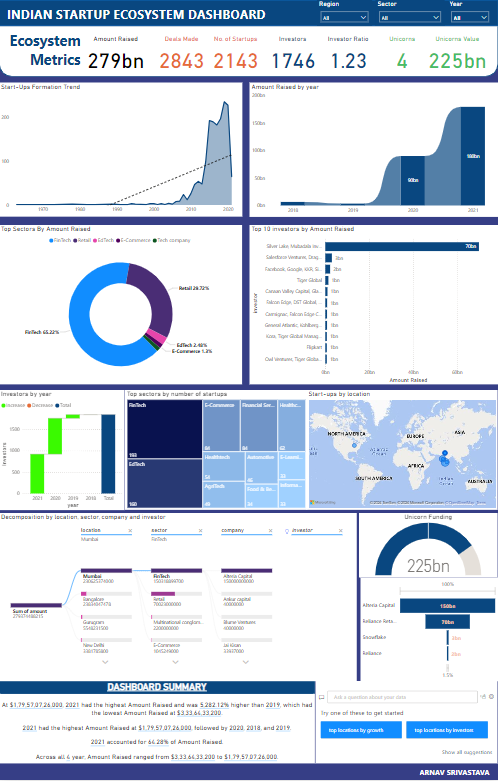

The page's visual inventory and layout, read from the dashboard file:
{"tool":"powerbi","page":{"name":"Page 2","canvas":[1280,940],"ordinal":1},"visuals":[{"type":"shape","box":[0,62.9,1280,127.1],"z":0,"group":"g2"},{"type":"group","id":"g1","title":"Group 1","box":[0,192.5,1280,747.5],"z":0},{"type":"group","id":"g2","title":"Group 2","box":[0,0,1280,190],"z":1000},{"type":"shape","box":[0,0,1280,64.1],"z":1000,"group":"g2"},{"type":"card","title":"Amount Raised","fields":{"Values":["Cleaned_Data.Amount Raised"]},"box":[217.5,84.7,160,96.8],"z":2000,"group":"g2"},{"type":"card","title":"Deals Made","fields":{"Values":["Cleaned_Data.Deals Made"]},"box":[387.7,84.7,160,96.8],"z":3000,"group":"g2"},{"type":"card","title":"Investors","fields":{"Values":["Cleaned_Data.Investors"]},"box":[673.5,84.7,160,96.8],"z":4000,"group":"g2"},{"type":"textbox","box":[15,6.1,696.2,58.1],"z":5000,"group":"g2"},{"type":"slicer","title":"Year","fields":{"Values":["Cleaned_Data.year"]},"box":[1148.8,0,116.2,62.9],"z":6000,"group":"g2"},{"type":"card","title":"Unicorns","fields":{"Values":["Sum(Cleaned_Data.Unicorn)"]},"box":[952.5,84.7,160,96.8],"z":7000,"group":"g2"},{"type":"card","title":"Investor Ratio","fields":{"Values":["Cleaned_Data.Investor Ratio"]},"box":[813.8,84.7,160,96.8],"z":8000,"group":"g2"},{"type":"card","title":"No. of Startups","fields":{"Values":["Cleaned_Data.Start-ups"]},"box":[527.9,84.7,160,96.8],"z":9000,"group":"g2"},{"type":"slicer","title":"Sector","fields":{"Values":["Cleaned_Data.sector"]},"box":[966.2,1.2,177.5,62.9],"z":10000,"group":"g2"},{"type":"decompositionTreeVisual","title":"Decomposition by location, sector, company and investor","fields":{"Analyze":["Sum(Cleaned_Data.amount)"],"ExplainBy":["Cleaned_Data.location","Cleaned_Data.sector","Cleaned_Data.company","Cleaned_Data.investor"]},"box":[0,508.7,917.5,431.2],"z":10000,"group":"g1"},{"type":"textbox","box":[6.2,71.4,206.2,111.3],"z":11000,"group":"g2"},{"type":"funnel","fields":{"Category":["Cleaned_Data.company"],"Y":["Cleaned_Data.Unicorn value"]},"box":[925,673.7,355,266.2],"z":11000,"group":"g1"},{"type":"slicer","title":"Region","fields":{"Values":["Cleaned_Data.location"]},"box":[816.2,0,141.2,64.1],"z":12000,"group":"g2"},{"type":"map","fields":{"Size":["Cleaned_Data.Start-ups"],"Category":["Cleaned_Data.location"]},"box":[790,192.5,490,307.5],"z":12000,"group":"g1"},{"type":"card","title":"Unicorns Value","fields":{"Values":["Cleaned_Data.Unicorn value"]},"box":[1088.8,84.7,173.8,96.8],"z":13000,"group":"g2"},{"type":"gauge","title":"Unicorn Funding","fields":{"Y":["Cleaned_Data.Unicorn value"],"MaxValue":["Cleaned_Data.Amount Raised"],"TargetValue":["Cleaned_Data.50%"]},"box":[1026.2,508.7,253.8,165],"z":13000,"group":"g1"},{"type":"treemap","title":"Top sectors by number of startups","fields":{"Group":["Cleaned_Data.sector"],"Values":["Cleaned_Data.Start-ups"]},"box":[322.5,192.5,467.5,307.5],"z":14000,"group":"g1"},{"type":"waterfallChart","fields":{"Category":["Cleaned_Data.year"],"Y":["Cleaned_Data.Investors"]},"box":[0,192.5,322,308],"z":15000,"group":"g1"}]}

Visuals, with their boxes on the page's 1280x940 design canvas (x1, y1, x2, y2). These are canvas units, not pixel positions in the 498x781 screenshot, which may show the page scaled, cropped or inside an application window:
shape: x1=0 y1=63 x2=1280 y2=190
"Group 1" group: x1=0 y1=192 x2=1280 y2=940
"Group 2" group: x1=0 y1=0 x2=1280 y2=190
shape: x1=0 y1=0 x2=1280 y2=64
"Amount Raised" card: x1=218 y1=85 x2=378 y2=182
"Deals Made" card: x1=388 y1=85 x2=548 y2=182
"Investors" card: x1=674 y1=85 x2=834 y2=182
textbox: x1=15 y1=6 x2=711 y2=64
"Year" slicer: x1=1149 y1=0 x2=1265 y2=63
"Unicorns" card: x1=952 y1=85 x2=1112 y2=182
"Investor Ratio" card: x1=814 y1=85 x2=974 y2=182
"No. of Startups" card: x1=528 y1=85 x2=688 y2=182
"Sector" slicer: x1=966 y1=1 x2=1144 y2=64
"Decomposition by location, sector, company and investor" decompositionTreeVisual: x1=0 y1=509 x2=918 y2=940
textbox: x1=6 y1=71 x2=212 y2=183
funnel - Cleaned_Data.company x Cleaned_Data.Unicorn value: x1=925 y1=674 x2=1280 y2=940
"Region" slicer: x1=816 y1=0 x2=957 y2=64
map - Cleaned_Data.Start-ups x Cleaned_Data.location: x1=790 y1=192 x2=1280 y2=500
"Unicorns Value" card: x1=1089 y1=85 x2=1263 y2=182
"Unicorn Funding" gauge: x1=1026 y1=509 x2=1280 y2=674
"Top sectors by number of startups" treemap: x1=322 y1=192 x2=790 y2=500
waterfallChart - Cleaned_Data.year x Cleaned_Data.Investors: x1=0 y1=192 x2=322 y2=500
